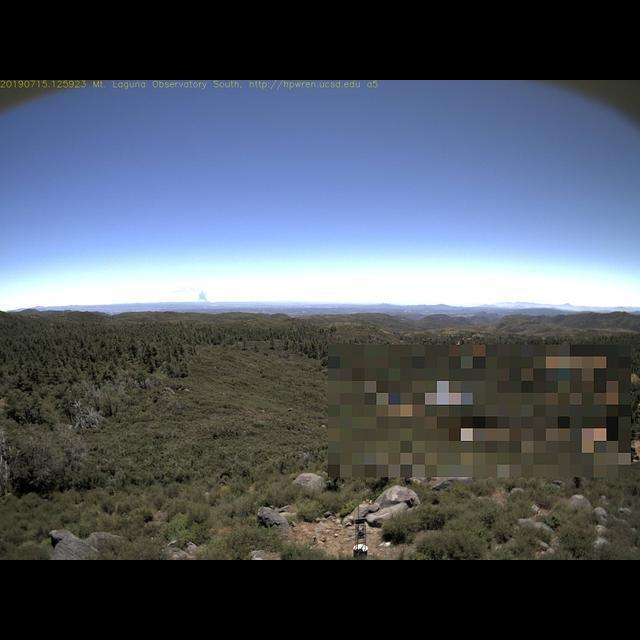Smoke: (193, 289, 213, 306)
